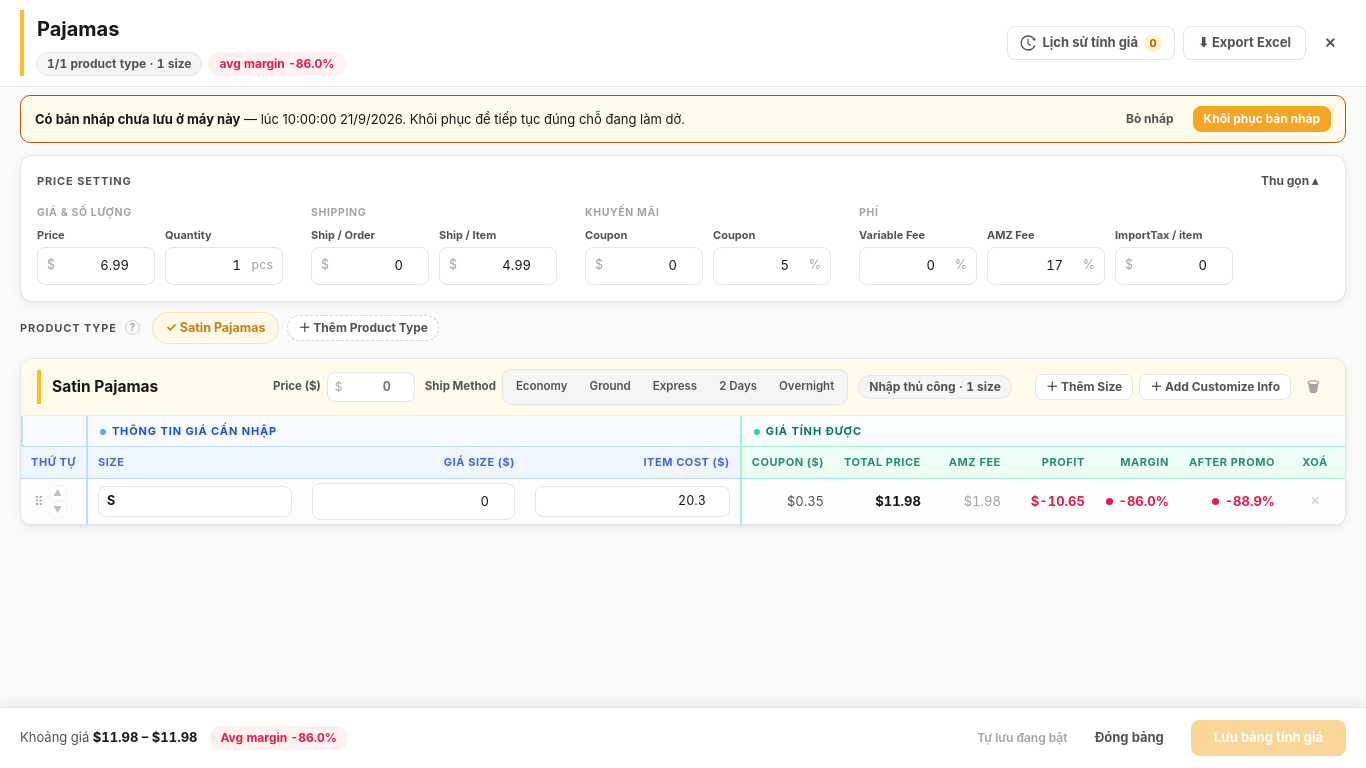
khôi phục bản nháp khi mở lại bảng › bấm Bỏ nháp → xoá khoá ở máy, banner biến mất
Step 1. Click the button "Bỏ nháp" → (1150, 119), box [1115,106,1185,132]
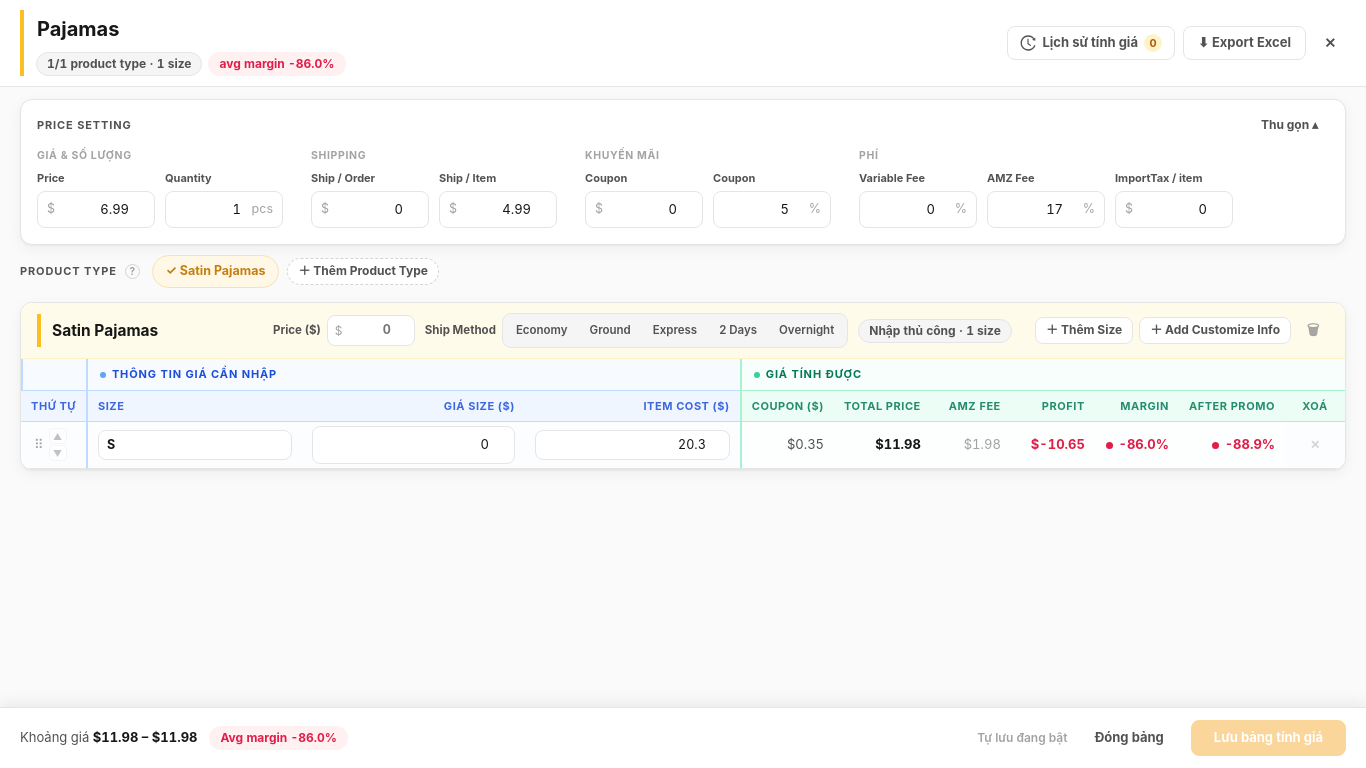
Result: the text "Có bản nháp chưa lưu ở máy này" is gone
